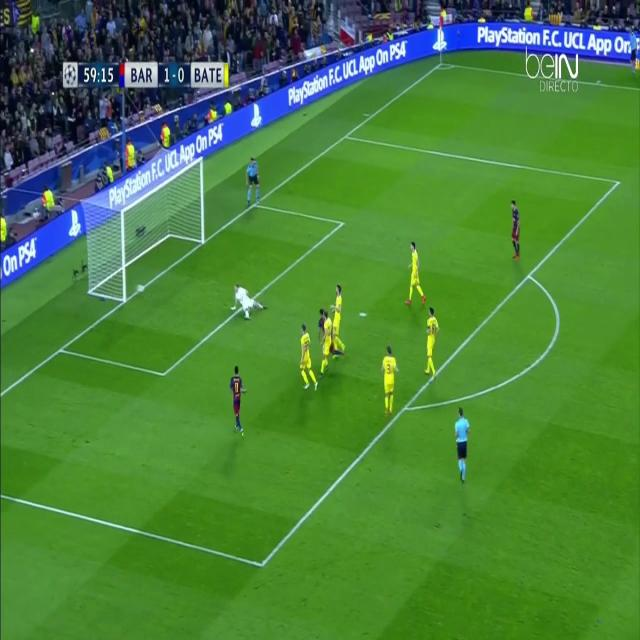Ball: (132, 280, 145, 298)
Goalkeeper: (229, 280, 269, 322)
Player: (404, 238, 429, 311), (379, 343, 401, 421), (330, 282, 351, 359), (297, 323, 319, 394), (228, 364, 248, 439), (425, 305, 442, 382), (508, 196, 524, 264), (317, 309, 331, 382)
Referee: (452, 404, 470, 486), (243, 156, 263, 212), (627, 24, 638, 81)
